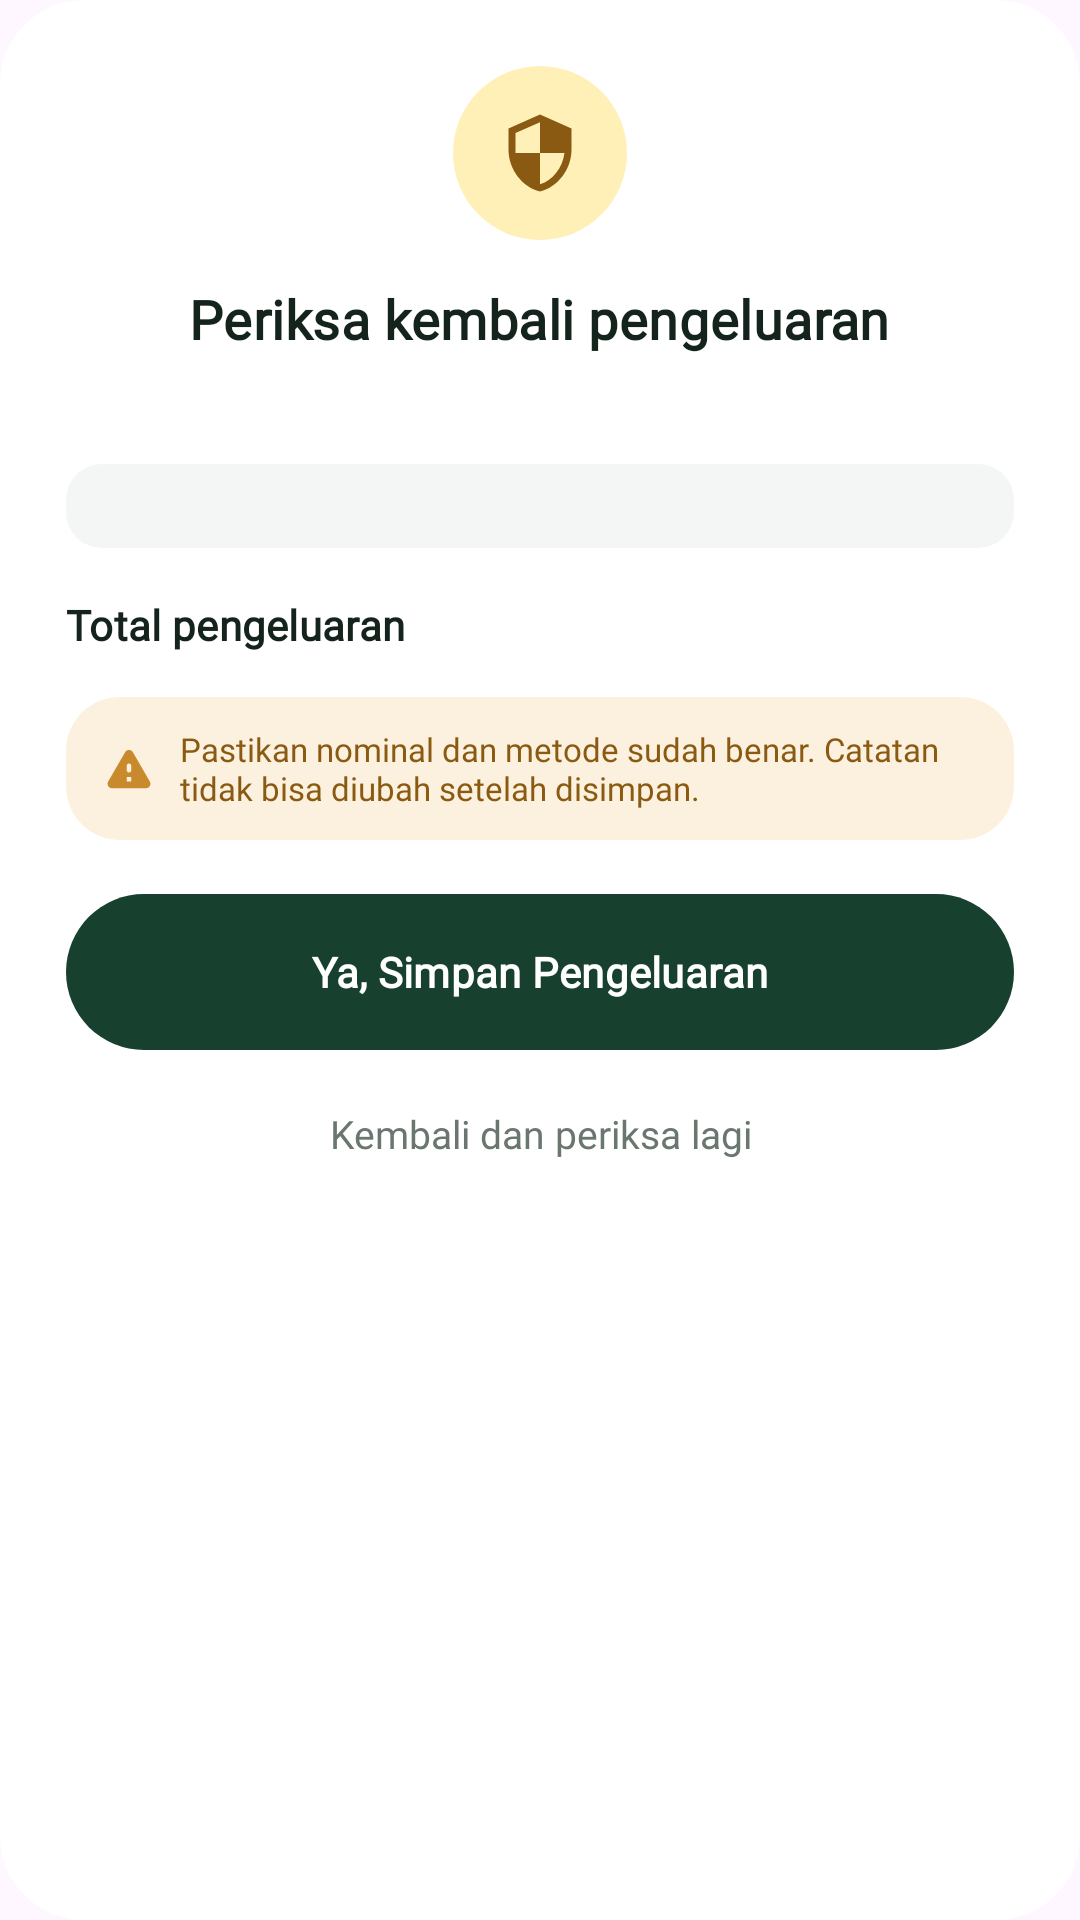

Where to tap for icons on this 1080*1920 app screen, as [x,y]:
warning: [129,769]
